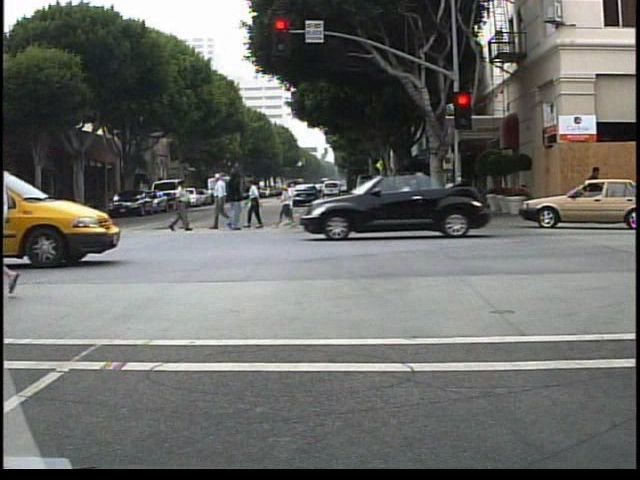person: (211, 171, 237, 231), (222, 170, 246, 234), (167, 175, 192, 233), (18, 192, 48, 240), (581, 161, 604, 221), (246, 177, 270, 231), (23, 182, 46, 237), (183, 180, 187, 232)
